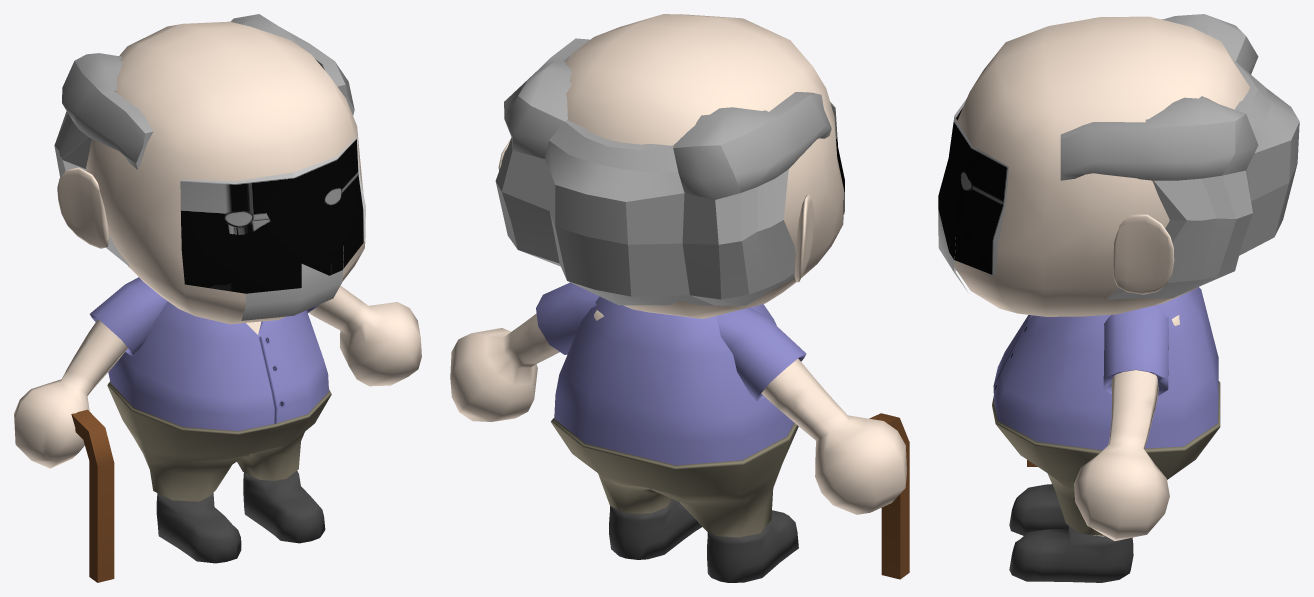
The model's file is Elderly V3.fbx.
3 renders of one model, left to right at view 1: azimuth 30°, elevation 25°; view 2: azimuth 150°, elevation 25°; view 3: azimuth 270°, elevation 25°, orthographic. The views are drawn at different scales.
Parts seen in each view (by area): view 1: polySurface4, shirt_n_pants7, eyes, Hair_v2_3, walking_stick, pCube43, pCube42, pCylinder19, mouth; view 2: Hair_v2_3, polySurface4, shirt_n_pants7, pCylinder19, pCube43, pCube42, walking_stick, pCylinder18; view 3: polySurface4, Hair_v2_3, shirt_n_pants7, eyes, pCube42, pCylinder18, pCube43.
Part boxes in pixels (<box>): polySurface4: <box>14,21,421,468</box>; shirt_n_pants7: <box>107,301,331,501</box>; eyes: <box>180,136,365,293</box>; Hair_v2_3: <box>54,14,354,266</box>; walking_stick: <box>71,409,114,582</box>; pCube43: <box>156,493,241,563</box>; pCube42: <box>243,471,325,543</box>; pCylinder19: <box>90,277,167,356</box>; mouth: <box>241,246,343,320</box>; Hair_v2_3: <box>495,38,831,305</box>; polySurface4: <box>450,14,906,514</box>; shirt_n_pants7: <box>551,296,798,537</box>; pCylinder19: <box>717,307,806,401</box>; pCube43: <box>707,510,798,582</box>; pCube42: <box>609,499,702,559</box>; walking_stick: <box>869,413,909,579</box>; pCylinder18: <box>536,282,599,354</box>; polySurface4: <box>954,16,1249,540</box>; Hair_v2_3: <box>1060,14,1299,299</box>; shirt_n_pants7: <box>992,287,1220,535</box>; eyes: <box>938,98,1008,275</box>; pCube42: <box>1009,526,1133,582</box>; pCylinder18: <box>1103,306,1168,395</box>; pCube43: <box>1009,484,1068,535</box>.
Size of the model in its own units: 5.07 by 5.67 by 3.61.
